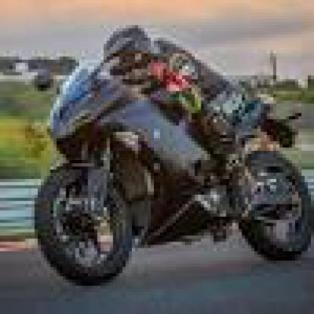Motocicleta: (25, 57, 311, 289)
